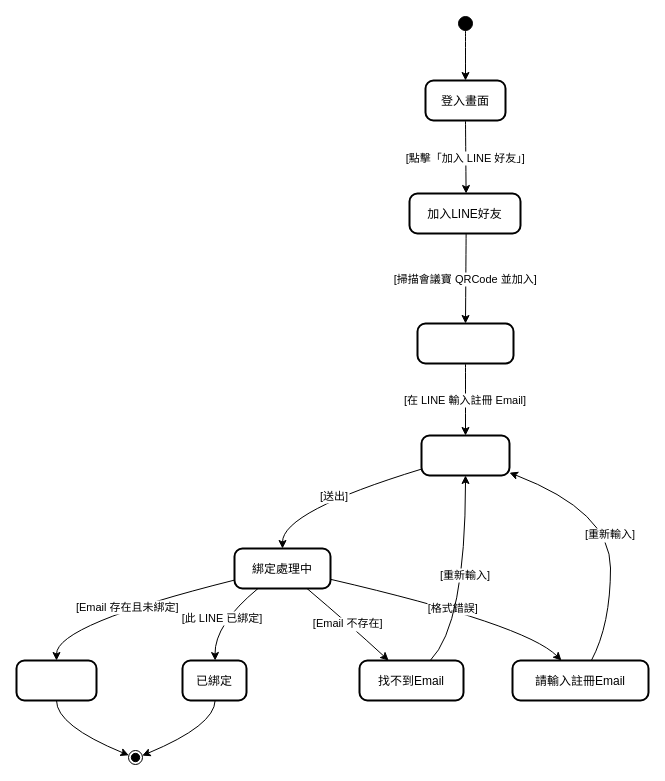
Image size: 665x781. Some labels were removed from this diagram. Each missing label, with the centre of its shape:
"已成為好友" goes at (x=465, y=343).
"綁定成功" goes at (x=56, y=680).
"輸入Email" goes at (x=465, y=455).
